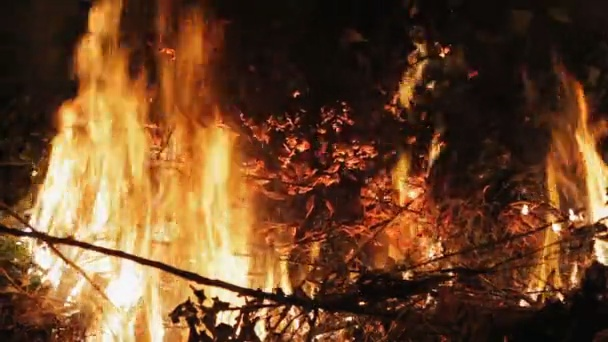fire: (21, 1, 300, 342), (522, 125, 608, 307), (391, 46, 427, 110), (393, 166, 422, 204)
